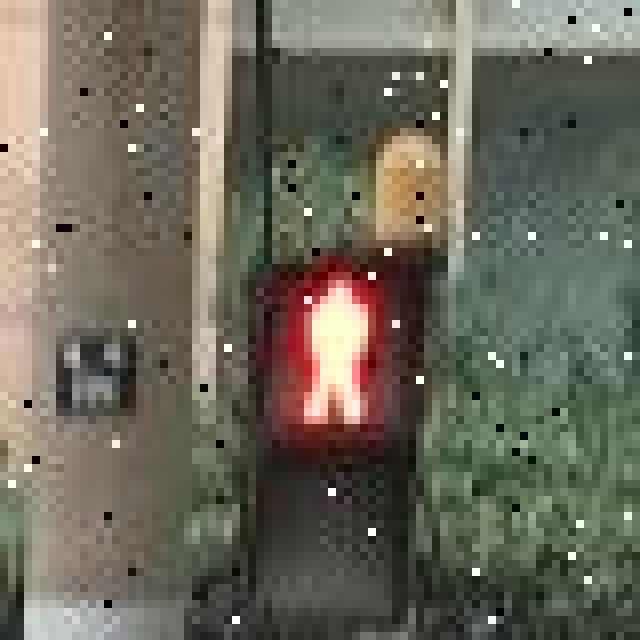redlight: (216, 232, 440, 624)
